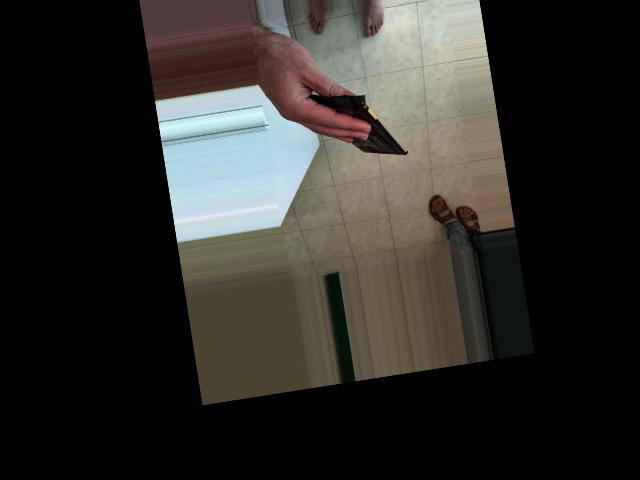chocolate: (293, 73, 410, 176)
